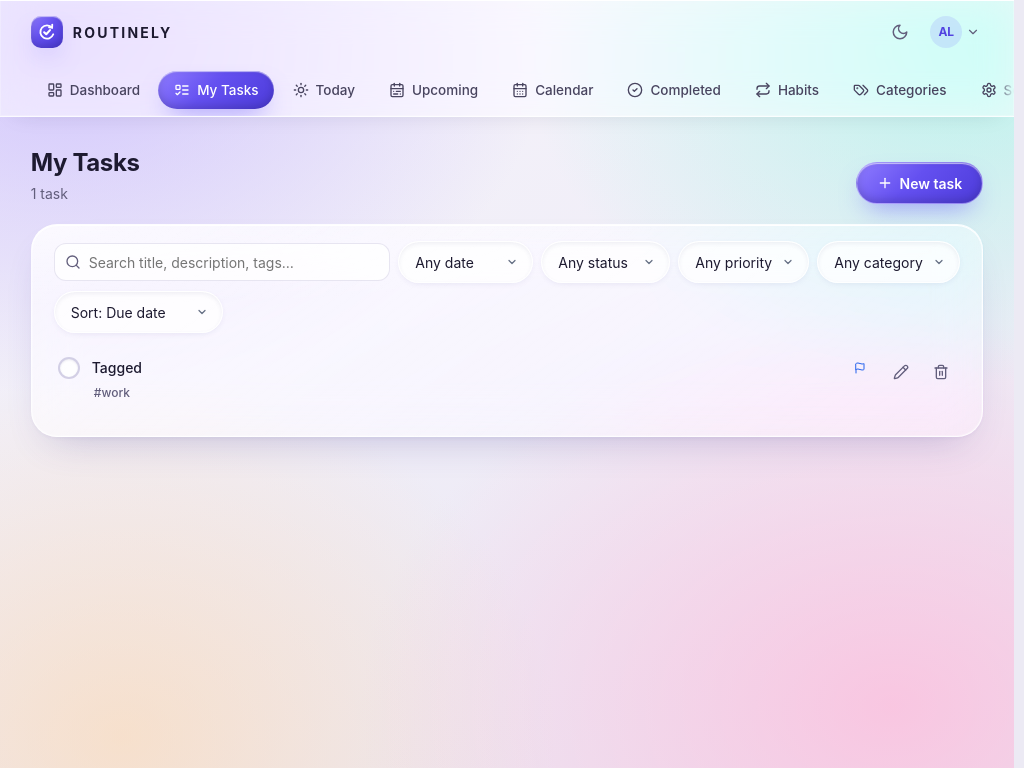
Test case: task form › keeps extra fields under "More options" unless the task already uses them
Click the button "New task".
click(919, 183)  # box top-left (856, 162), bottom-right (983, 204)
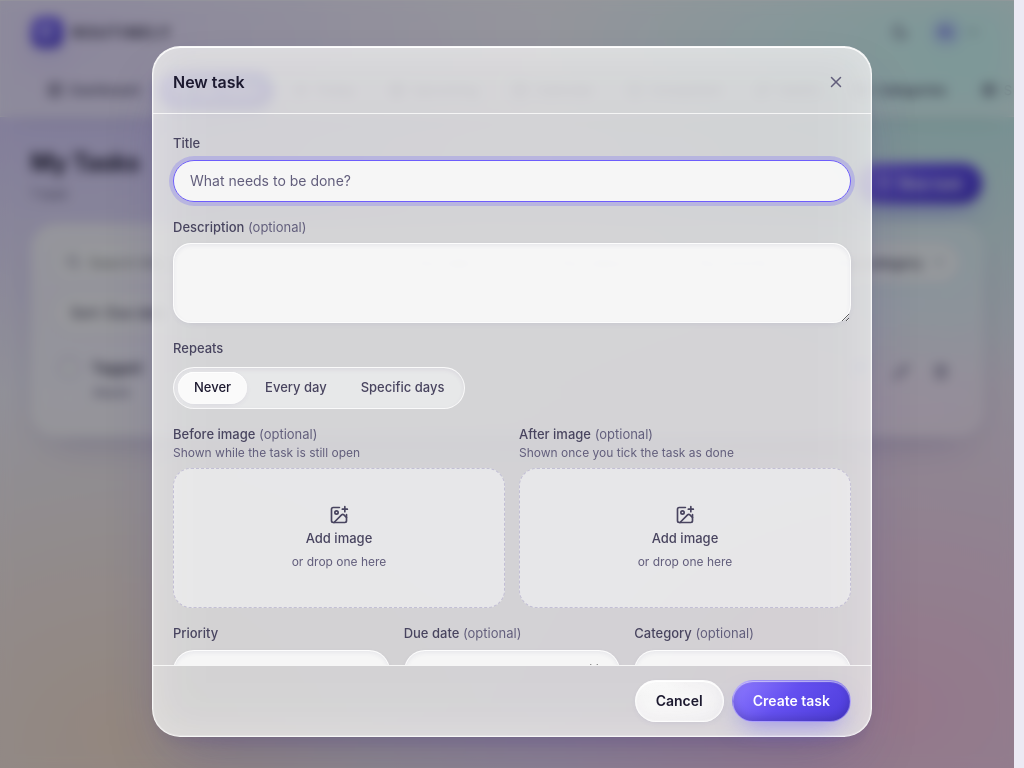
Click the button "Cancel".
click(679, 701)  # box top-left (635, 680), bottom-right (724, 722)
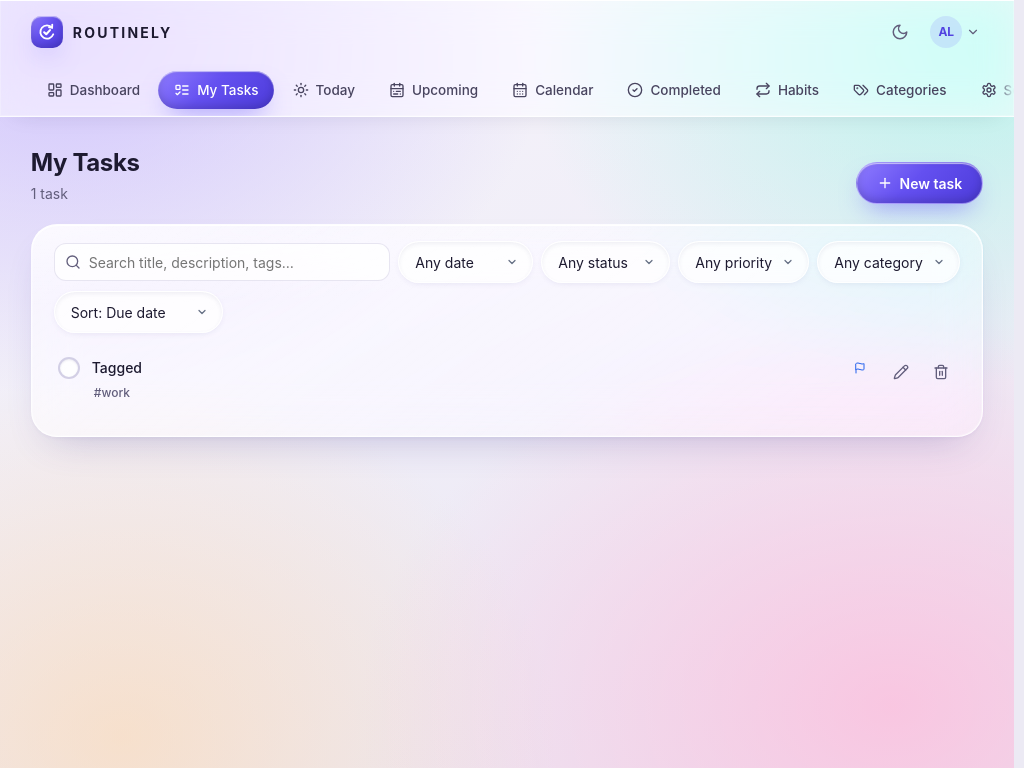
Click the button named "Edit \"Tagged\"".
click(901, 372)  # box top-left (882, 353), bottom-right (920, 391)
(page scrolled)
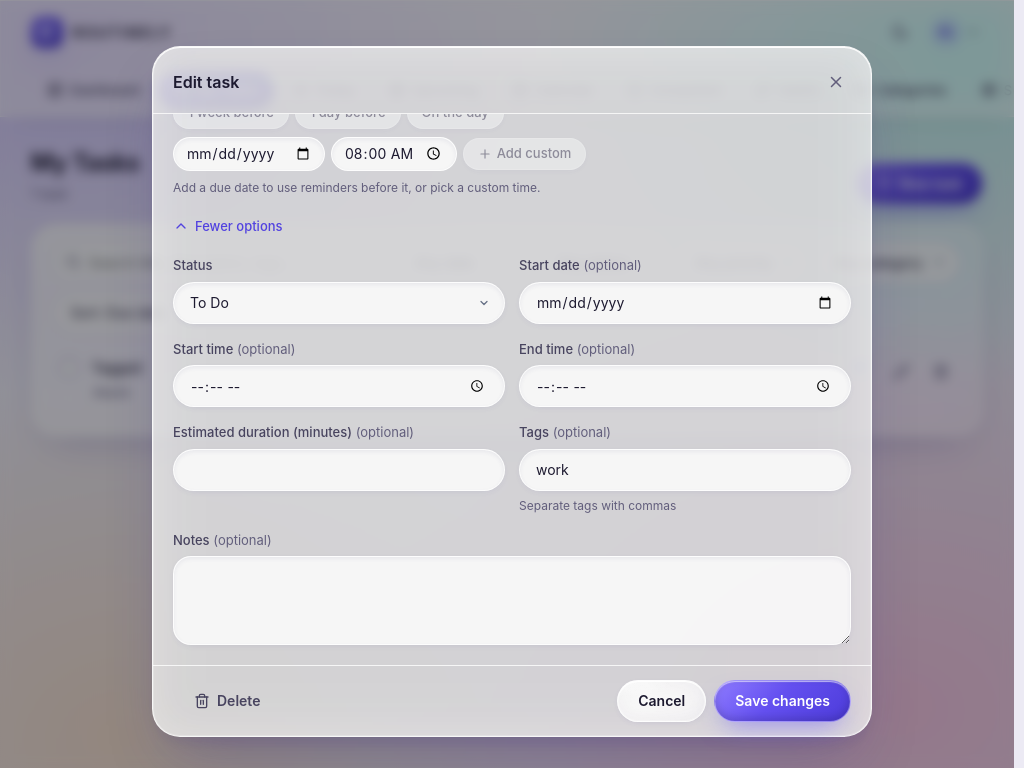
Expected: the field labelled "Tags (optional)" holds "work", top-left (519, 449), bottom-right (851, 491)
